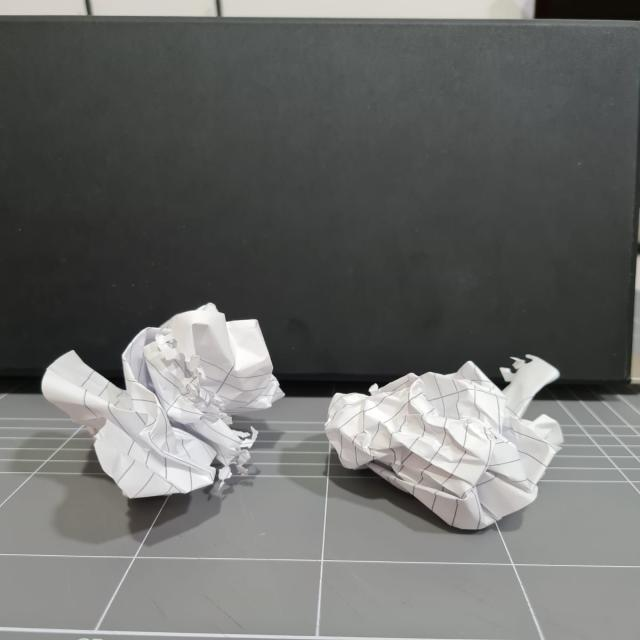Paper: (38, 303, 283, 495), (325, 355, 566, 535)
